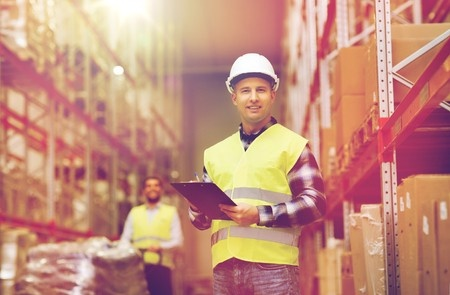helmet: (224, 52, 281, 95)
person with full safety: (199, 52, 312, 292)
person with partial safety: (123, 177, 184, 293)
safety vest: (202, 130, 308, 266), (124, 205, 184, 270)
